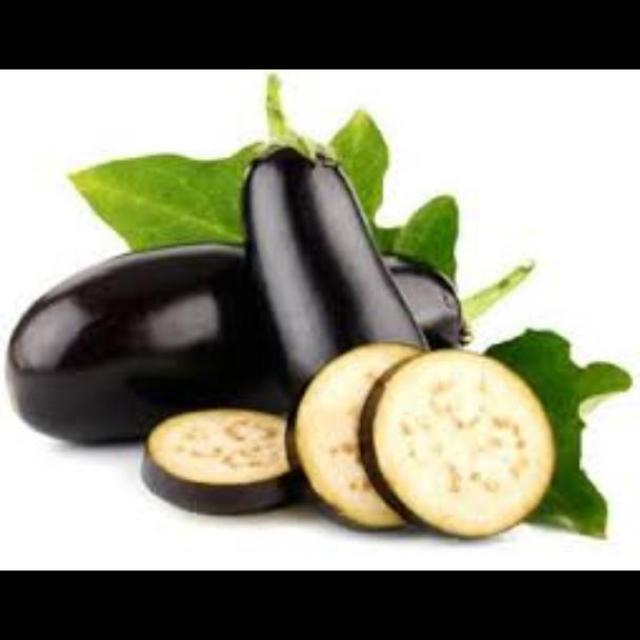eggplant: (1, 204, 540, 419), (115, 316, 567, 518), (236, 80, 390, 406)
